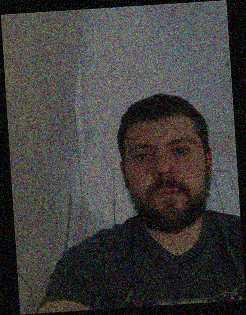without_mask: (126, 131, 206, 236)
